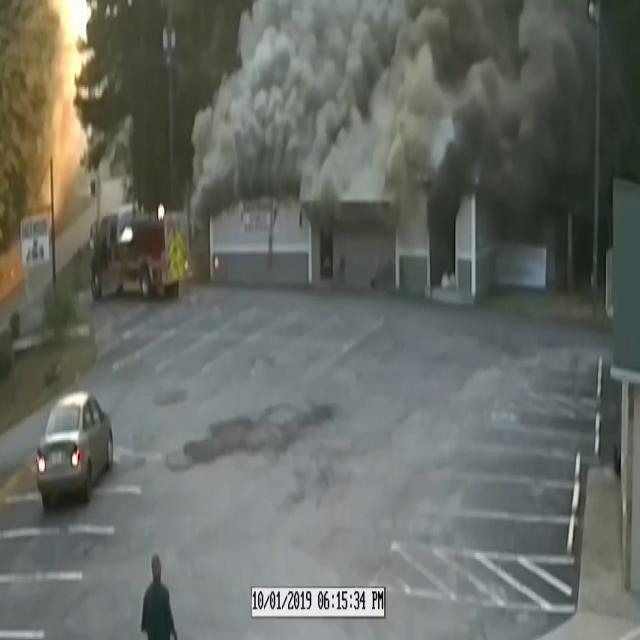Smoke: (196, 0, 639, 221)
